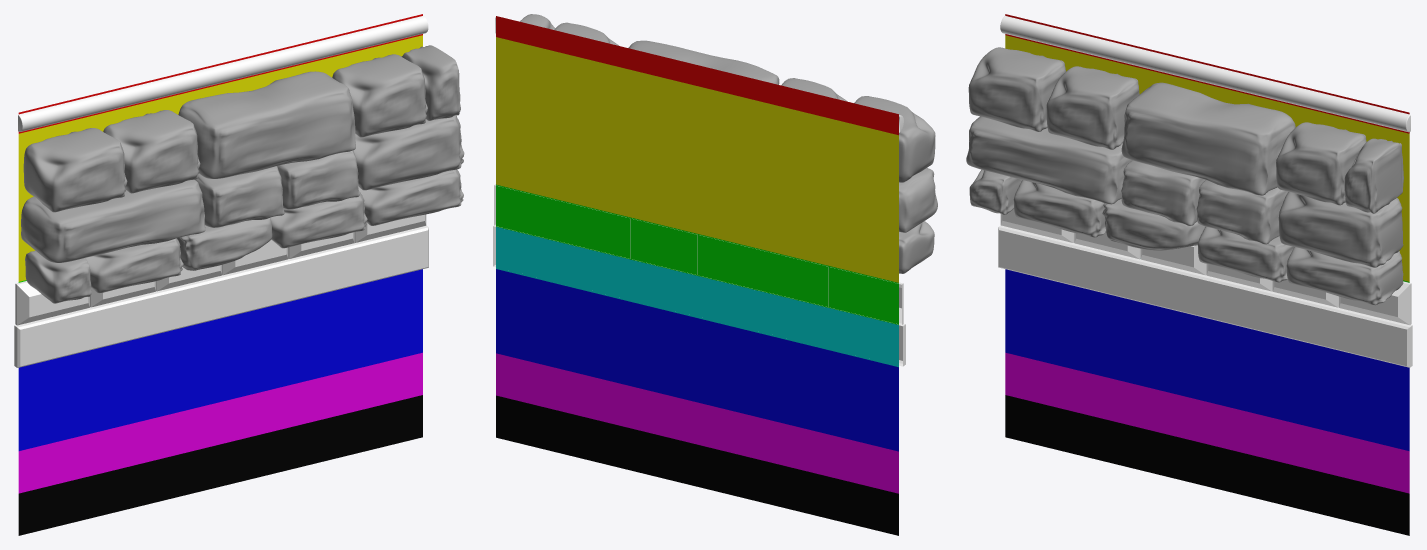
The model's file is Trim_1_high.fbx.
3 renders of one model, left to right at view 1: azimuth 30°, elevation 25°; view 2: azimuth 150°, elevation 25°; view 3: azimuth 330°, elevation 25°, orthographic.
Visible parts, largest first — view 1: dwda, pCube3, Block_3_high2, Block_3_high1, pCylinder1, Block_2_High1, Block_2_High5, Block_2_High2, Block_2_High3, Block_3_high3, Block_2_High6, Block_3_high4 (+11 smaller); view 2: dwda, Block_2_High1, Block_3_high2, Block_3_high1, Block_2_High10, Block_2_High2, Block_2_High3; view 3: dwda, pCube3, Block_3_high2, Block_3_high1, pCylinder1, Block_2_High5, Block_2_High1, Block_2_High2, Block_2_High3, Block_2_High6, Block_3_high4, Block_3_high3 (+11 smaller).
Part boxes in pixels (left/top/right/bottom): dwda: left=18, top=14, right=422, bottom=535; pCube3: left=14, top=225, right=428, bottom=367; Block_3_high2: left=178, top=71, right=355, bottom=178; Block_3_high1: left=21, top=179, right=205, bottom=262; pCylinder1: left=18, top=15, right=428, bottom=131; Block_2_High1: left=23, top=128, right=127, bottom=212; Block_2_High5: left=353, top=115, right=464, bottom=190; Block_2_High2: left=103, top=110, right=200, bottom=193; Block_2_High3: left=332, top=54, right=427, bottom=137; Block_3_high3: left=195, top=166, right=284, bottom=227; Block_2_High6: left=358, top=169, right=463, bottom=225; Block_3_high4: left=277, top=150, right=359, bottom=209; dwda: left=496, top=16, right=898, bottom=535; Block_2_High1: left=854, top=96, right=935, bottom=182; Block_3_high2: left=628, top=40, right=779, bottom=84; Block_3_high1: left=899, top=168, right=937, bottom=232; Block_2_High10: left=899, top=221, right=934, bottom=273; Block_2_High2: left=781, top=78, right=847, bottom=101; Block_2_High3: left=554, top=22, right=618, bottom=45; dwda: left=1005, top=14, right=1409, bottom=535; pCube3: left=998, top=225, right=1412, bottom=367; Block_3_high2: left=1121, top=82, right=1295, bottom=195; Block_3_high1: left=966, top=116, right=1131, bottom=204; pCylinder1: left=1000, top=16, right=1410, bottom=132; Block_2_High5: left=1278, top=192, right=1403, bottom=267; Block_2_High1: left=968, top=47, right=1065, bottom=131; Block_2_High2: left=1046, top=66, right=1139, bottom=149; Block_2_High3: left=1276, top=122, right=1366, bottom=205; Block_2_High6: left=1286, top=247, right=1403, bottom=305; Block_3_high4: left=1196, top=180, right=1288, bottom=244; Block_3_high3: left=1121, top=160, right=1205, bottom=225.
Size of the model in its own units: 150 by 145 by 26.73.
